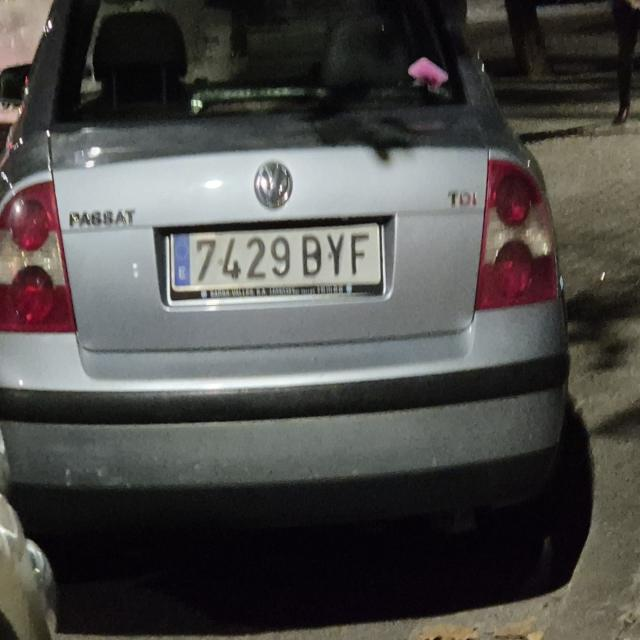license_plate-34Td: (164, 222, 389, 306)
